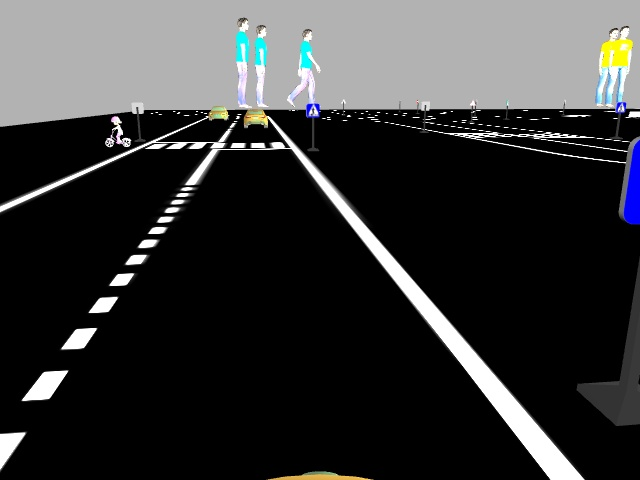Crosswalk: (304, 103, 320, 117)
Pedestrian: (102, 114, 132, 151)
